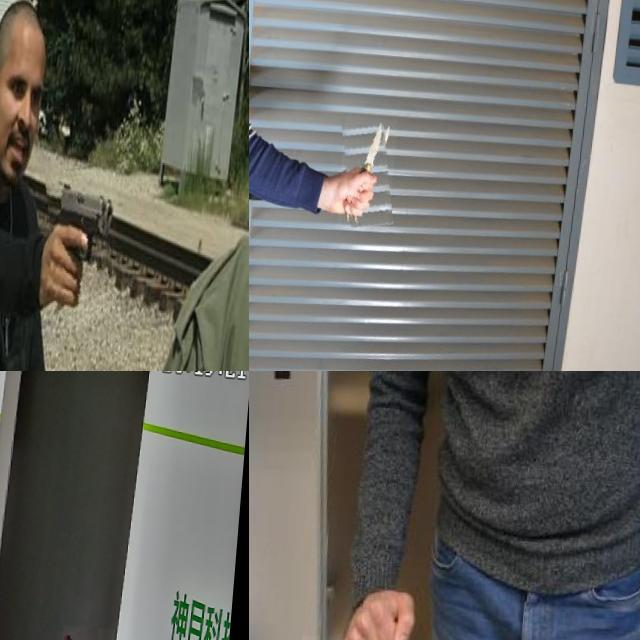-: (343, 110, 402, 223)
gun-knife-thesis - v11 Yolov5 augmented: (46, 160, 125, 308)
